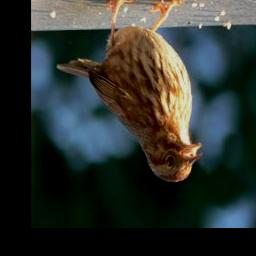Sparrow: (52, 0, 203, 186)
